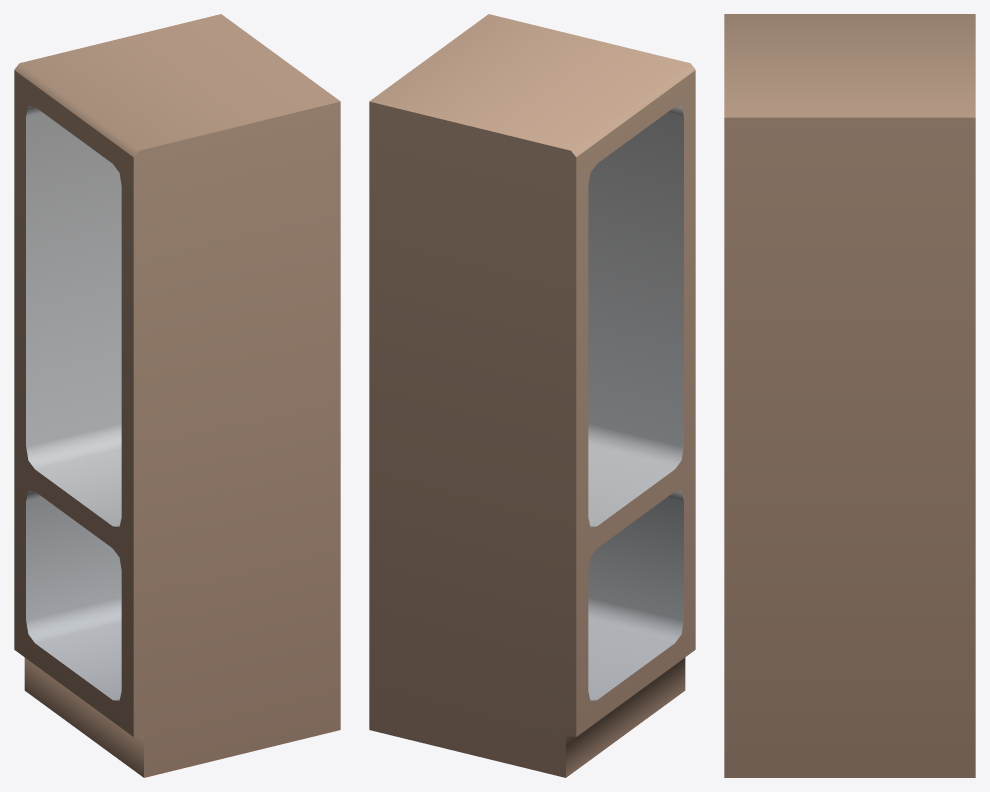
File: cabinet-basic-high-door.glb
3 renders of one model, left to right at view 1: azimuth 30°, elevation 25°; view 2: azimuth 150°, elevation 25°; view 3: azimuth 270°, elevation 25°, orthographic. The views are drawn at different scales.
Parts seen in each view (by area): view 1: cabinet-basic-high-door; view 2: cabinet-basic-high-door; view 3: cabinet-basic-high-door.
Part boxes in pixels (left/top/right/bottom): cabinet-basic-high-door: left=14, top=14, right=340, bottom=777; cabinet-basic-high-door: left=369, top=14, right=695, bottom=777; cabinet-basic-high-door: left=724, top=14, right=975, bottom=777.
Size of the model in its own units: 0.5 by 1.45 by 0.5.
